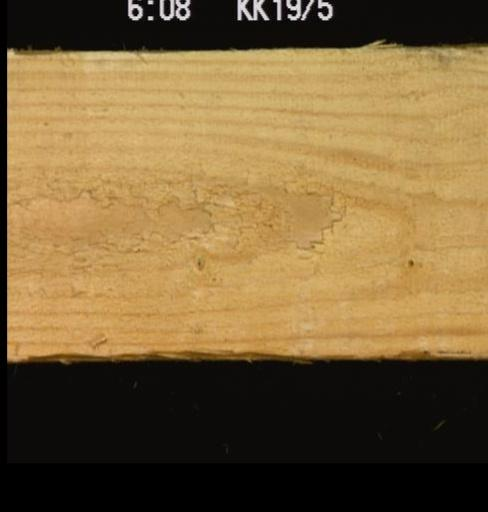small_knot: (190, 250, 209, 274), (402, 250, 419, 272)
wave: (17, 338, 314, 358), (372, 340, 471, 358)
